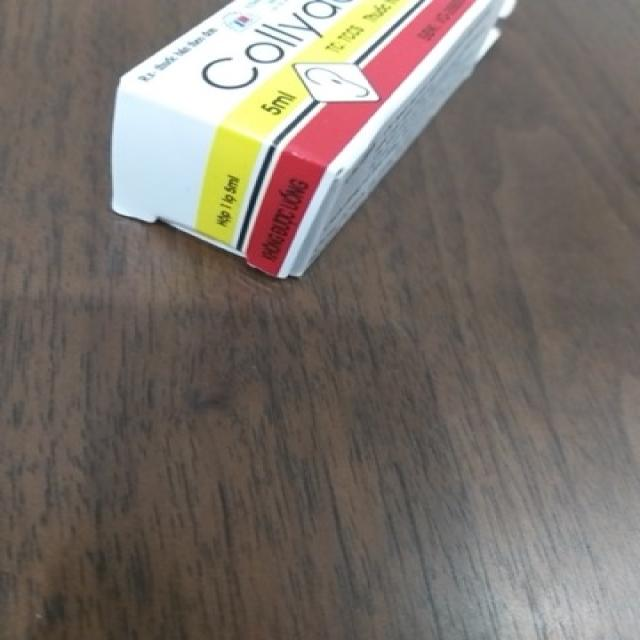PaperCardboard: (107, 0, 522, 287)
